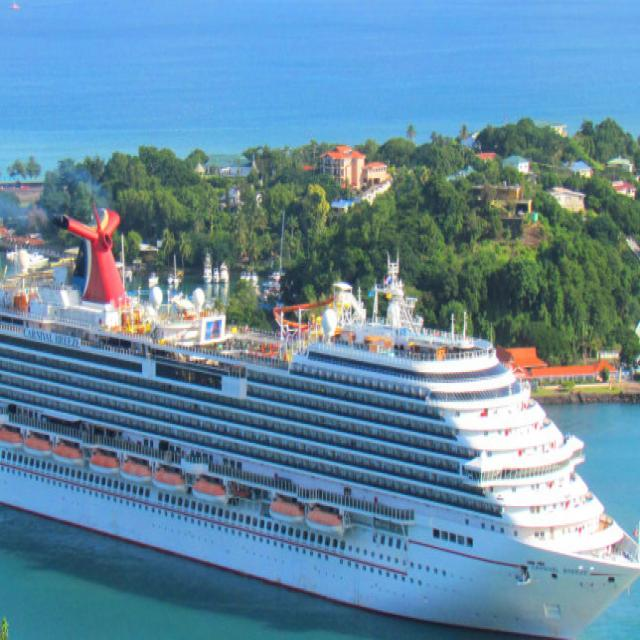cruises: (1, 199, 640, 640)
